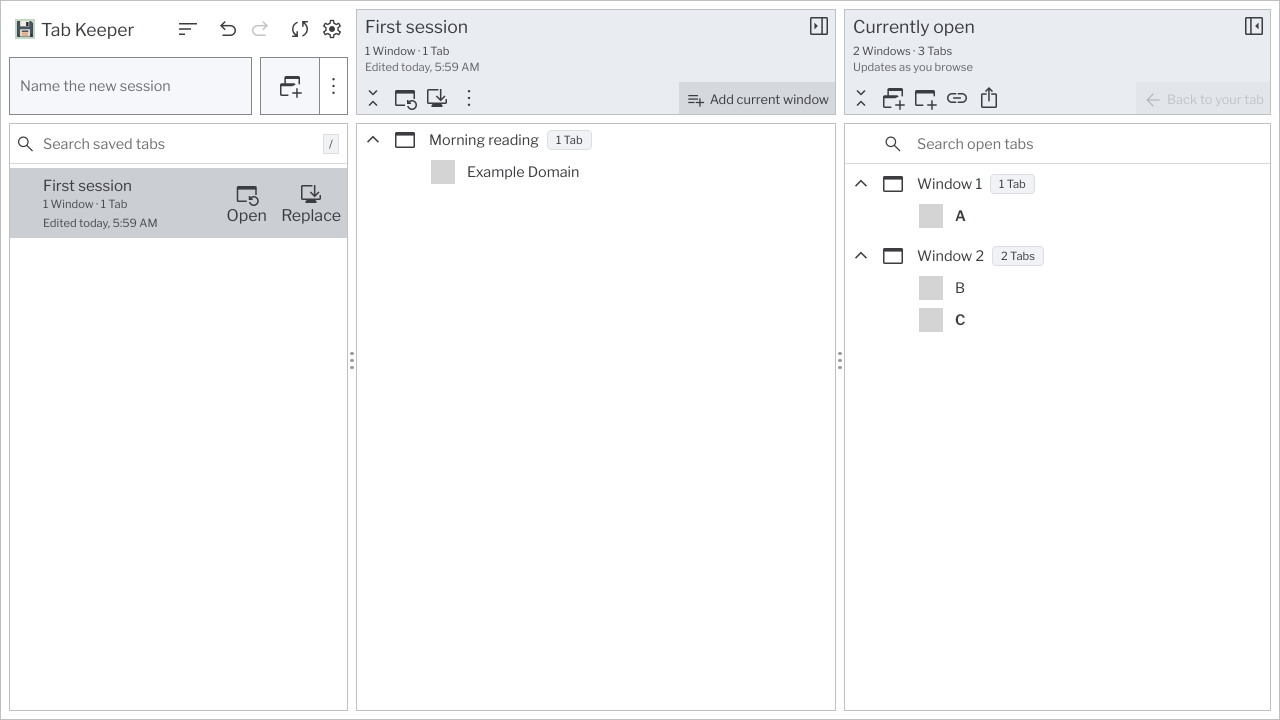
the / chip shows where / goes (KAN-800) › a typed search swaps the chip for Clear on that field only
This screenshot has width=1280, height=720.
Type "k" into the field labelled "Search saved tabs" at x=175, y=144, box [36,124,315,163]
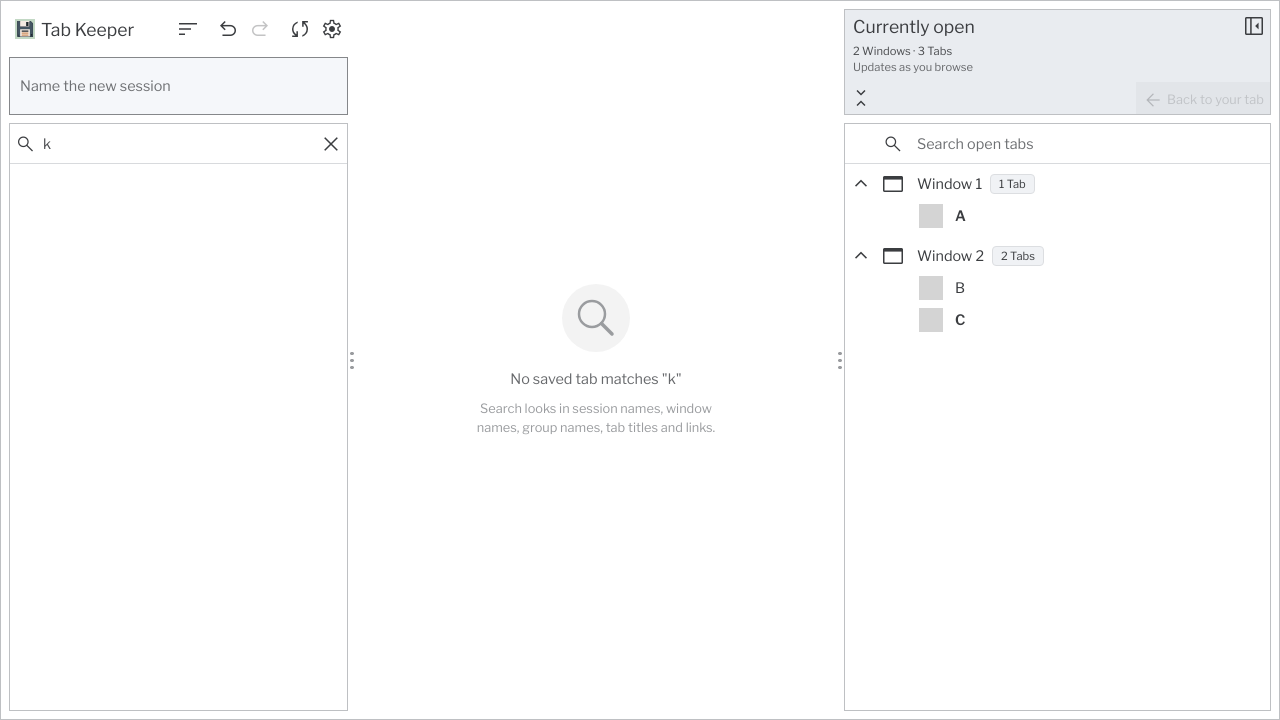
Check: the text "/" is gone
